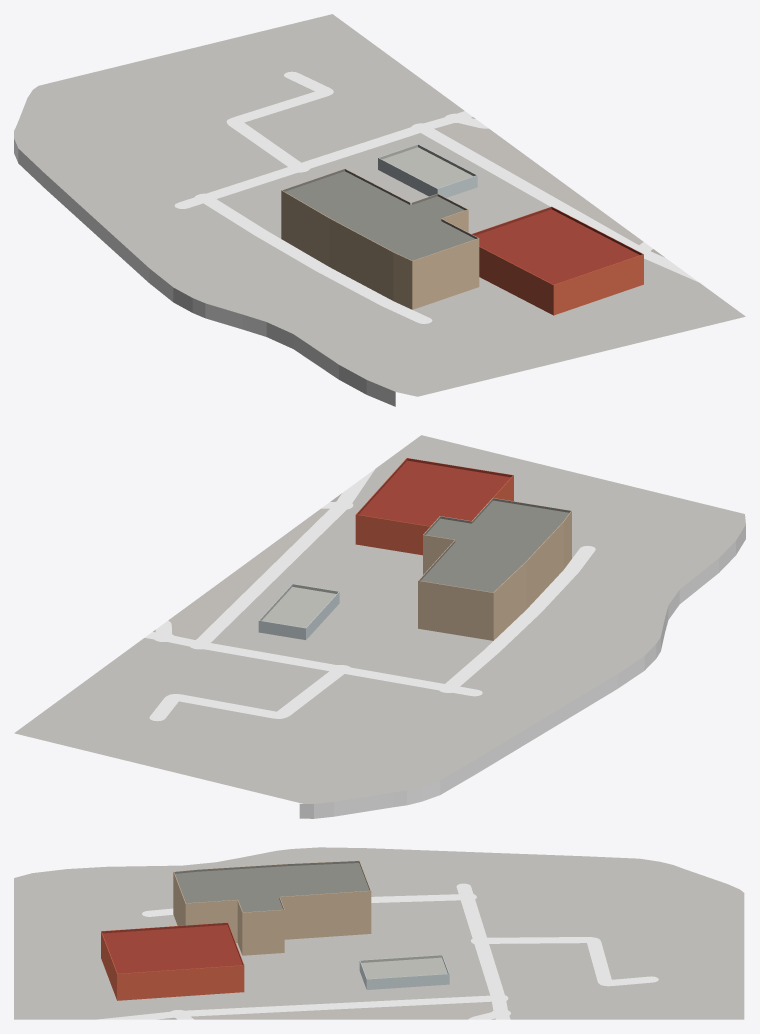
3 renders of one model, top to bottom at view 1: azimuth 30°, elevation 25°; view 2: azimuth 150°, elevation 25°; view 3: azimuth 270°, elevation 25°, orthographic. The views are drawn at different scales.
Visible parts, largest first — view 1: ground, roofs, walls, asphalt, coast; view 2: ground, roofs, walls, asphalt, coast; view 3: ground, roofs, walls, asphalt.
Part boxes in pixels (<box>): ground: <box>14,14,745,396</box>; roofs: <box>282,144,643,285</box>; walls: <box>281,158,643,315</box>; asphalt: <box>174,71,698,323</box>; coast: <box>14,139,395,406</box>; ground: <box>14,435,745,803</box>; roofs: <box>259,458,571,628</box>; walls: <box>258,475,571,640</box>; asphalt: <box>144,469,595,721</box>; coast: <box>299,525,745,818</box>; ground: <box>14,847,744,1019</box>; roofs: <box>101,860,449,979</box>; walls: <box>101,872,449,1000</box>; asphalt: <box>97,883,658,1019</box>.
Size of what is drawn, in the model's own units: 140 by 21.24 by 251.
